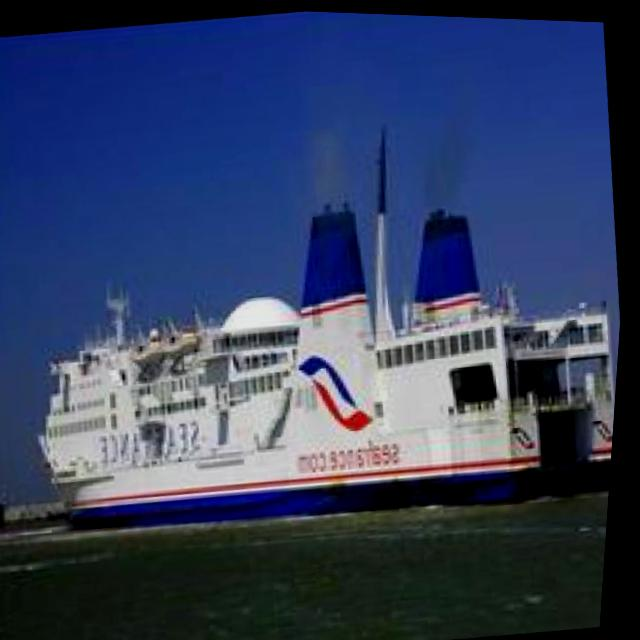ship2: (45, 128, 621, 533)
